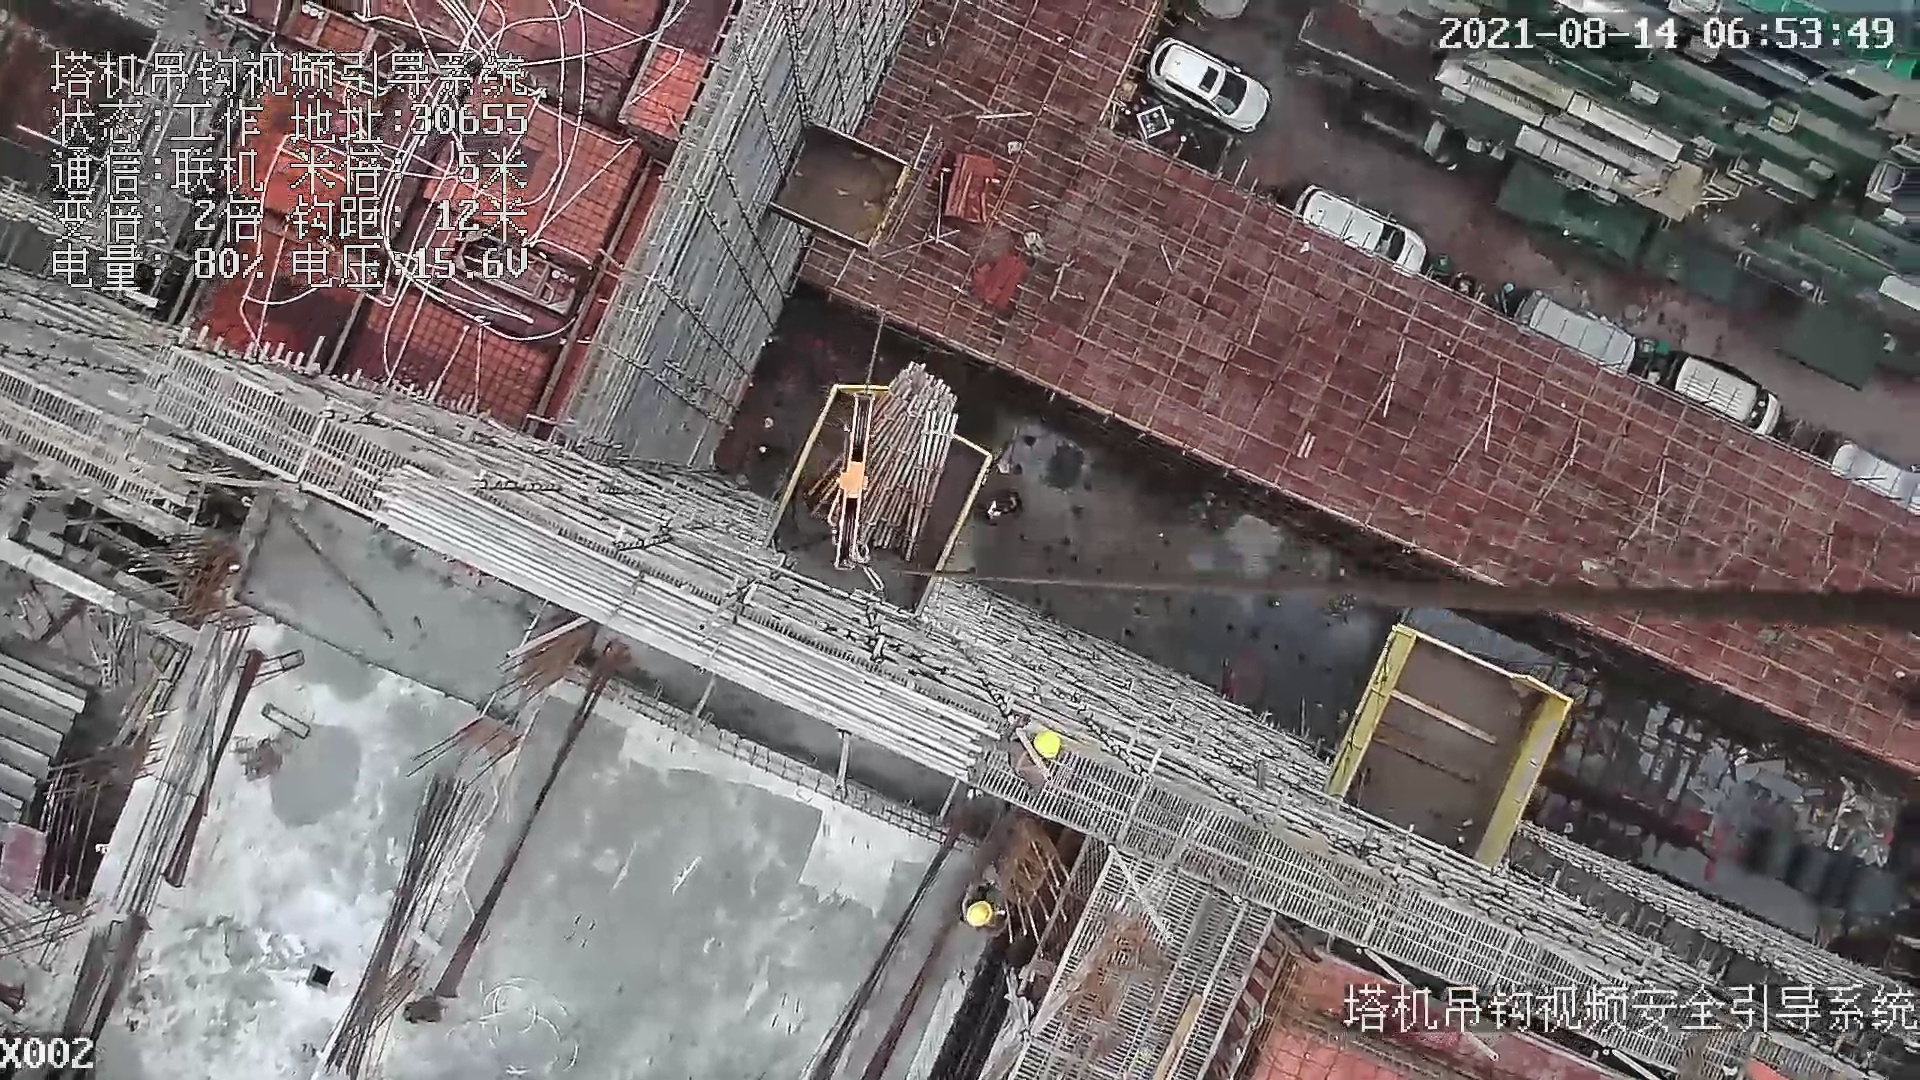helmet: (965, 901, 993, 927), (1032, 730, 1059, 757)
hook: (829, 386, 881, 590)
person: (994, 717, 1060, 803), (951, 878, 1014, 935)
rebar: (370, 466, 985, 781), (308, 774, 490, 1080)
scaffold: (809, 360, 958, 564)
